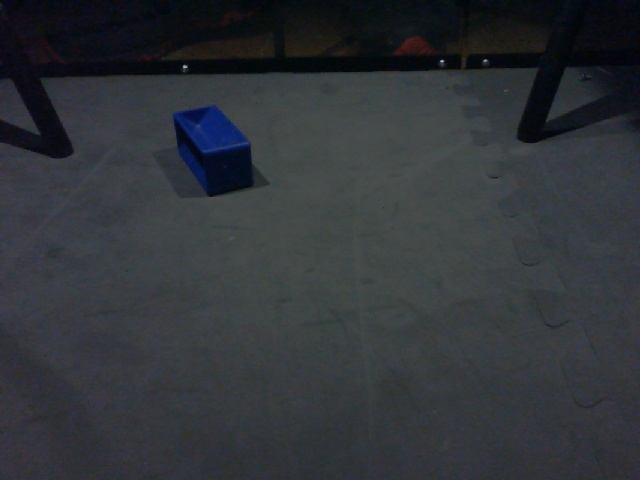BlueSample: (172, 102, 255, 201)
